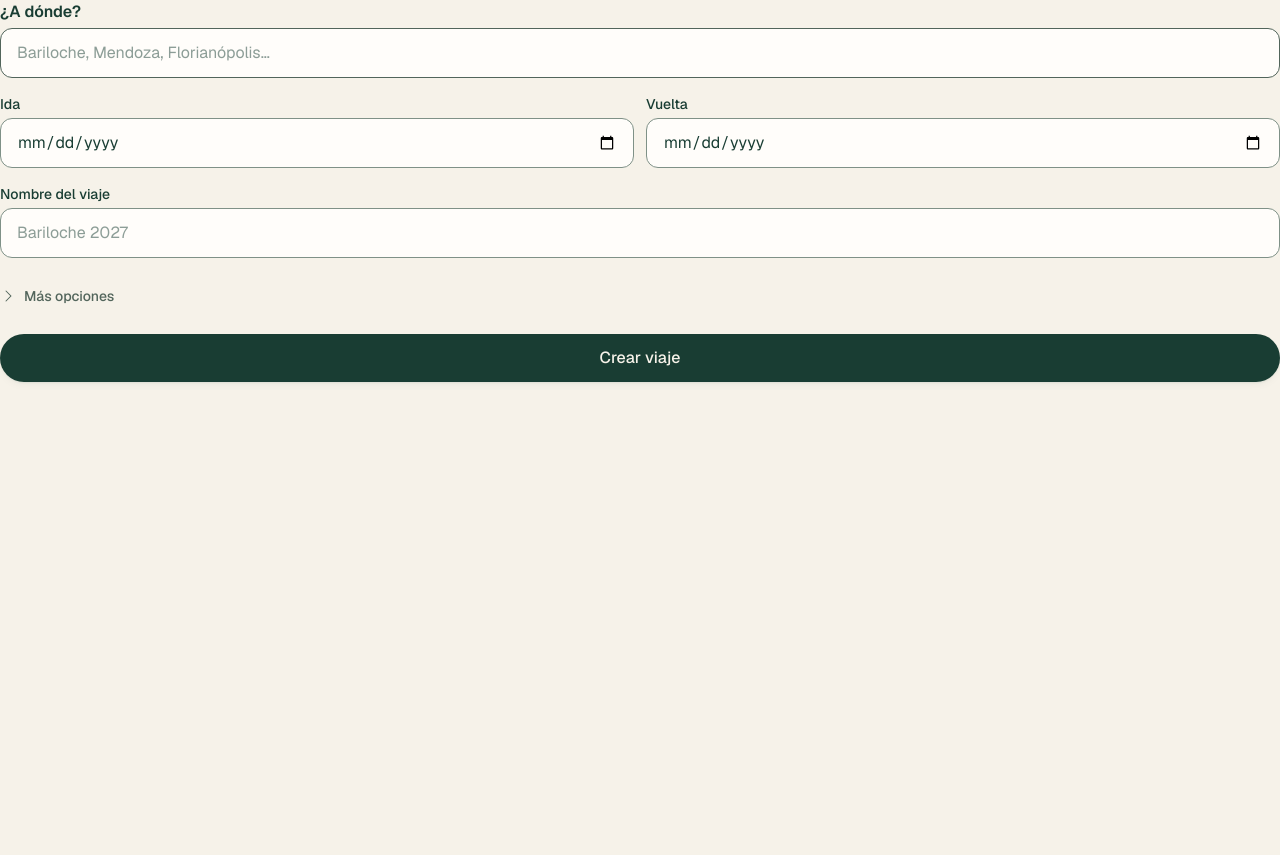
Test: CreateTripForm picture hint › shows Lago Puelo with its own lake photo, not a borrowed scene
The image size is (1280, 855).
In the field labelled "¿A dónde?": (640, 53) 0,28 -> 1279,78, type "Lago Puelo"
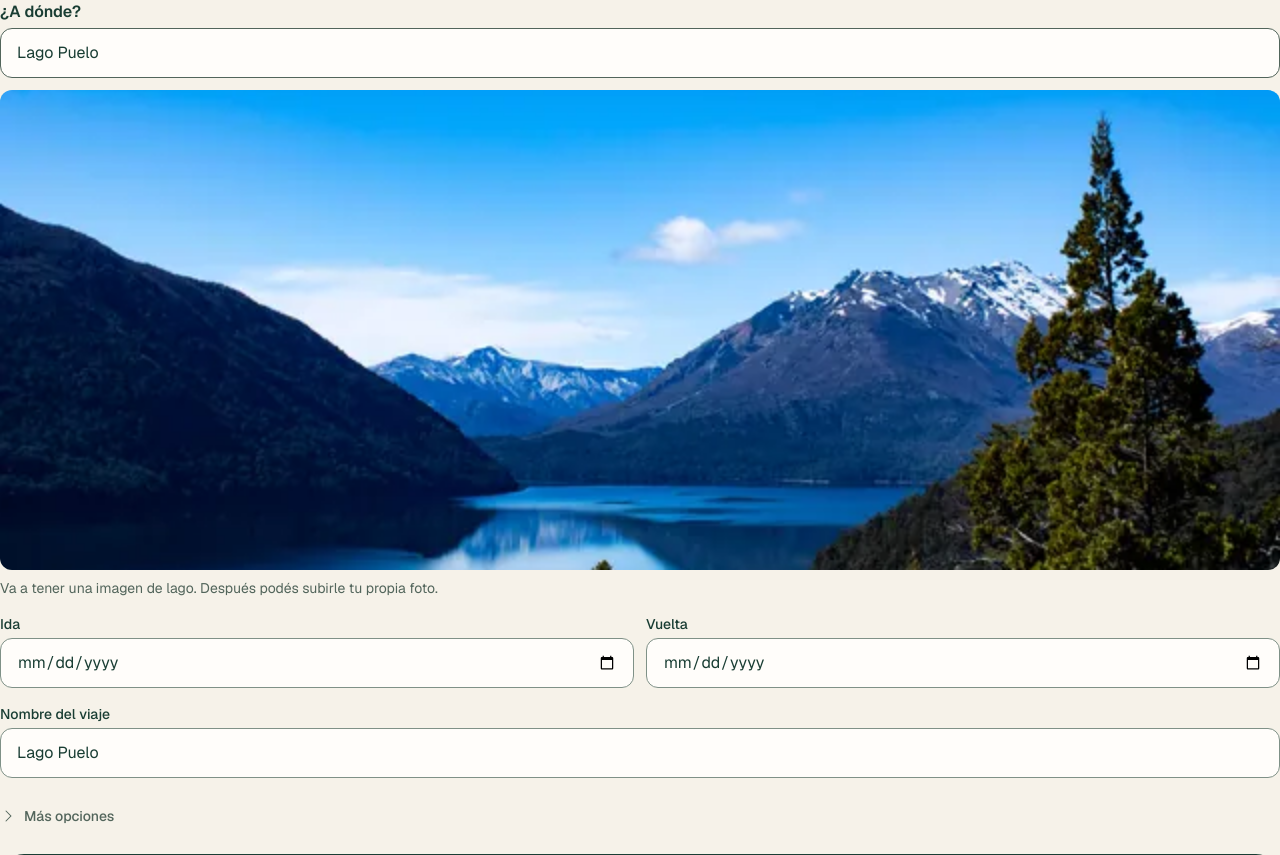
expect the message shows "lago": met, box 0,579 -> 438,597
